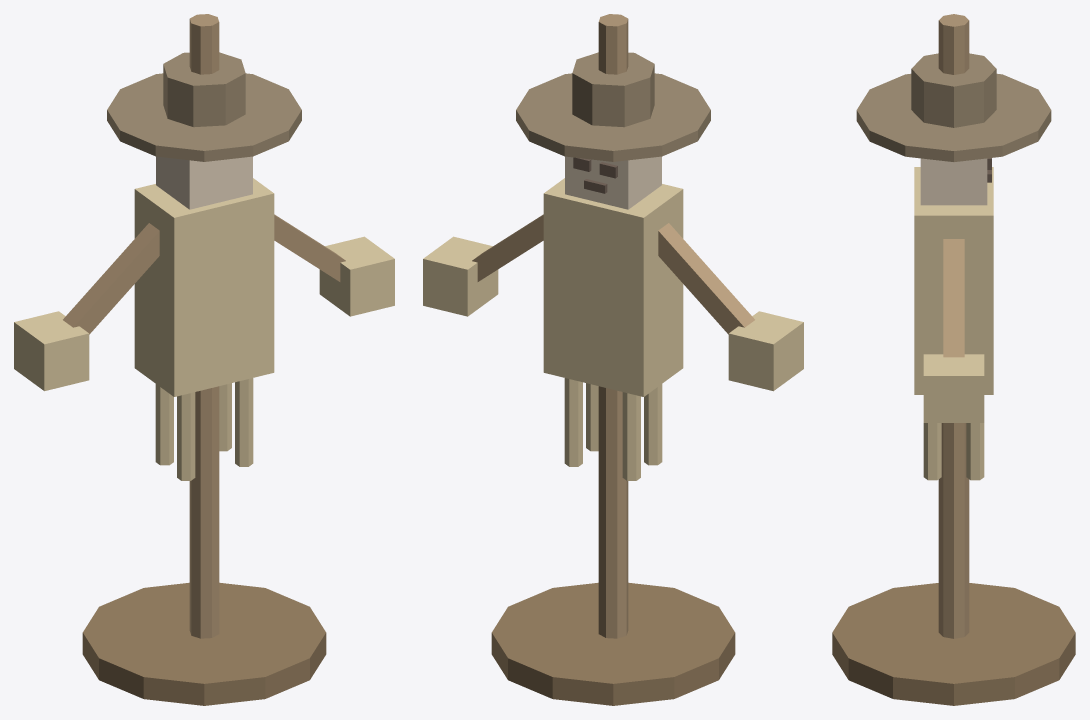
The model's file is 33-Agricultura_espantapajaros.glb.
3 views of the same model, side by side, from view 1: azimuth 30°, elevation 25°; view 2: azimuth 150°, elevation 25°; view 3: azimuth 270°, elevation 25° (orthographic).
Parts seen in each view (by area): view 1: SM_Espanta_M_Espanta_Paja, SM_Espanta_M_Espanta_Tierra, SM_Espanta_M_Espanta_Trapo, SM_Espanta_M_Espanta_Madera, SM_Espanta_M_Espanta_Cara; view 2: SM_Espanta_M_Espanta_Paja, SM_Espanta_M_Espanta_Tierra, SM_Espanta_M_Espanta_Trapo, SM_Espanta_M_Espanta_Madera, SM_Espanta_M_Espanta_Cara, SM_Espanta_M_Espanta_Rasgos; view 3: SM_Espanta_M_Espanta_Tierra, SM_Espanta_M_Espanta_Paja, SM_Espanta_M_Espanta_Trapo, SM_Espanta_M_Espanta_Madera, SM_Espanta_M_Espanta_Cara.
Part boxes in pixels (x1,y1,x2,y2): SM_Espanta_M_Espanta_Paja: (14,178,394,480); SM_Espanta_M_Espanta_Tierra: (82,582,326,705); SM_Espanta_M_Espanta_Trapo: (107,52,301,161); SM_Espanta_M_Espanta_Madera: (63,14,345,638); SM_Espanta_M_Espanta_Cara: (156,156,252,209); SM_Espanta_M_Espanta_Paja: (423,178,803,480); SM_Espanta_M_Espanta_Tierra: (491,582,735,705); SM_Espanta_M_Espanta_Trapo: (516,52,710,161); SM_Espanta_M_Espanta_Madera: (472,14,754,638); SM_Espanta_M_Espanta_Cara: (565,156,661,209); SM_Espanta_M_Espanta_Rasgos: (573,157,617,193); SM_Espanta_M_Espanta_Tierra: (832,583,1075,705); SM_Espanta_M_Espanta_Paja: (914,167,993,480); SM_Espanta_M_Espanta_Trapo: (856,53,1051,161); SM_Espanta_M_Espanta_Madera: (938,14,969,638); SM_Espanta_M_Espanta_Cara: (920,158,987,205).
Bounding box in the file's own units: 1.33 × 2.3 × 0.8.
